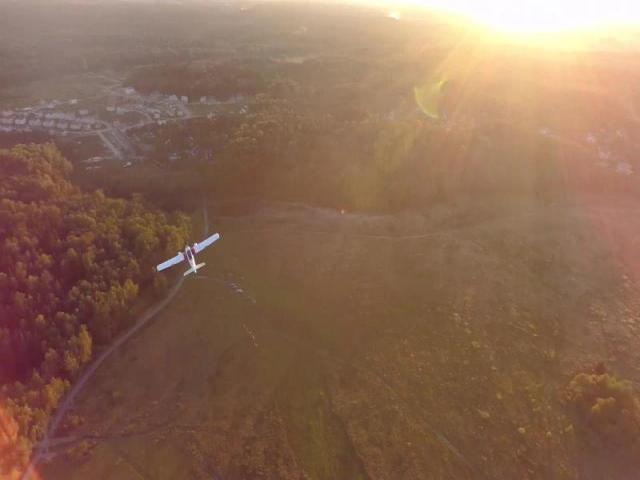hedef: (151, 219, 220, 292)
